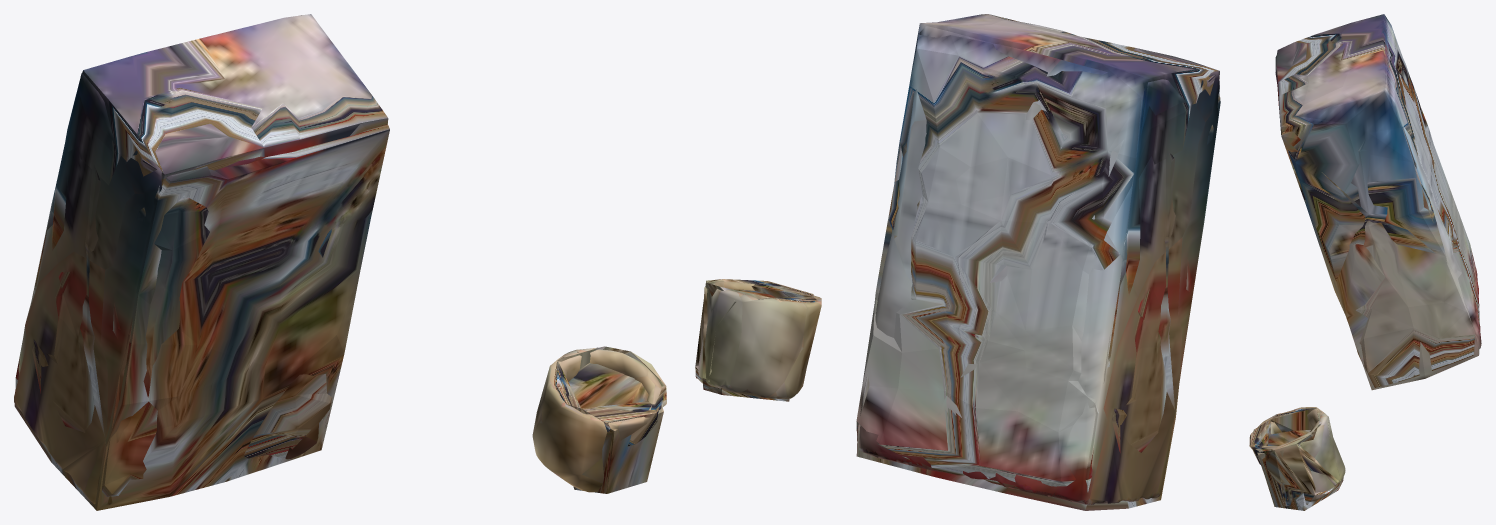
File: imp-oatmeal.glb
3 renders of one model, left to right at view 1: azimuth 30°, elevation 25°; view 2: azimuth 150°, elevation 25°; view 3: azimuth 270°, elevation 25°, orthographic. The views are drawn at different scales.
Visible parts, largest first — view 1: Kerbside_metres_ground_pivot (×3); view 2: Kerbside_metres_ground_pivot (×3); view 3: Kerbside_metres_ground_pivot (×3).
Part boxes in pixels (x1=…): Kerbside_metres_ground_pivot (×3): x1=14, y1=14, x2=666, y2=510; Kerbside_metres_ground_pivot (×3): x1=695, y1=14, x2=1220, y2=510; Kerbside_metres_ground_pivot (×3): x1=1249, y1=14, x2=1481, y2=510.
Bounding box in the file's own units: 0.24 × 0.214 × 0.1352.
1 material, 1 textured.
